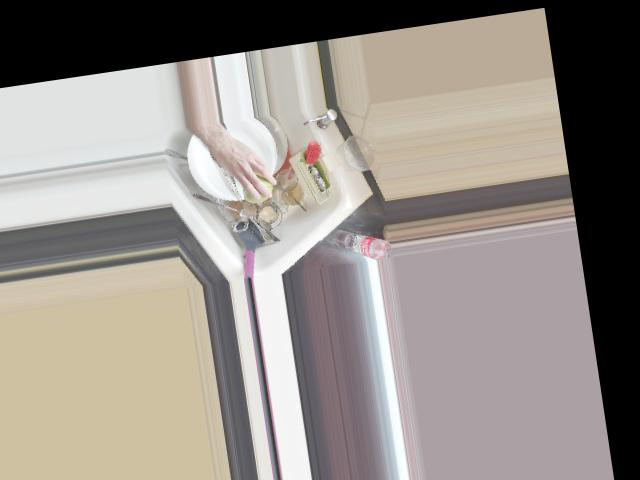apple: (238, 168, 274, 204)
